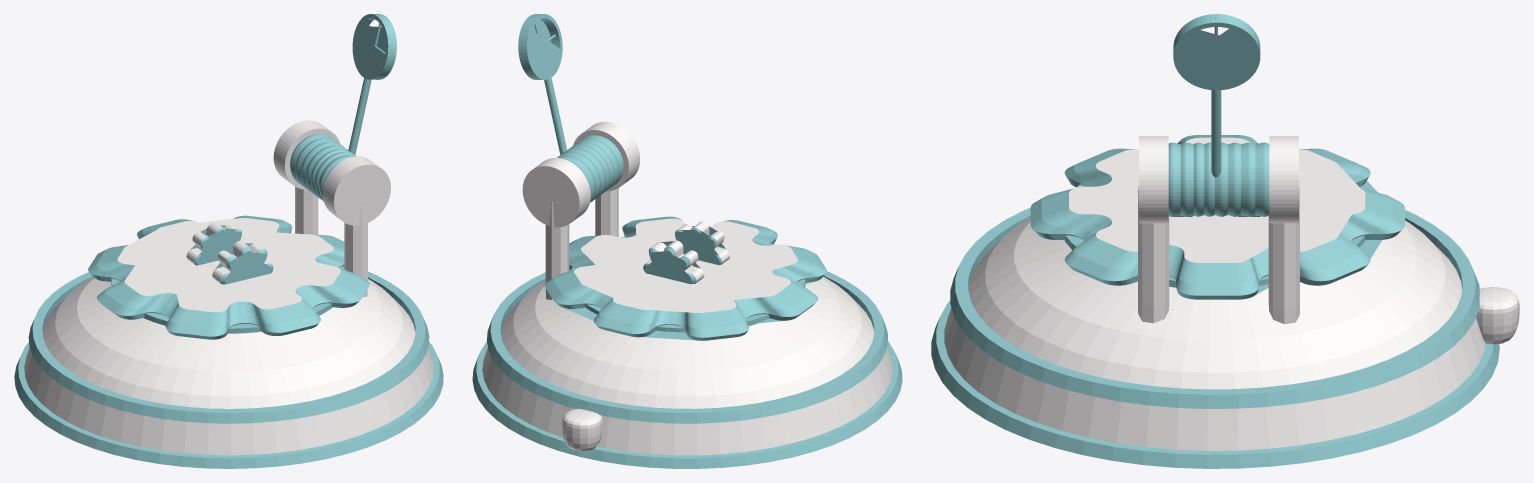
Rendered from gövde.fbx.
3 views of the same model, side by side, from view 1: azimuth 30°, elevation 25°; view 2: azimuth 150°, elevation 25°; view 3: azimuth 270°, elevation 25° (orthographic). The views are drawn at different scales.
Visible parts, largest first — view 1: Cylinder; view 2: Cylinder; view 3: Cylinder.
Boxes of the visible parts, x1,y1,x2,y2 form: Cylinder: [14, 14, 443, 468]; Cylinder: [472, 14, 902, 468]; Cylinder: [931, 14, 1519, 468].
Size of the model in its own units: 1395 by 1167 by 1443.
